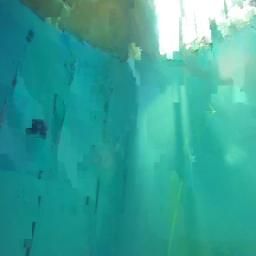Full: (26, 119, 46, 138)
